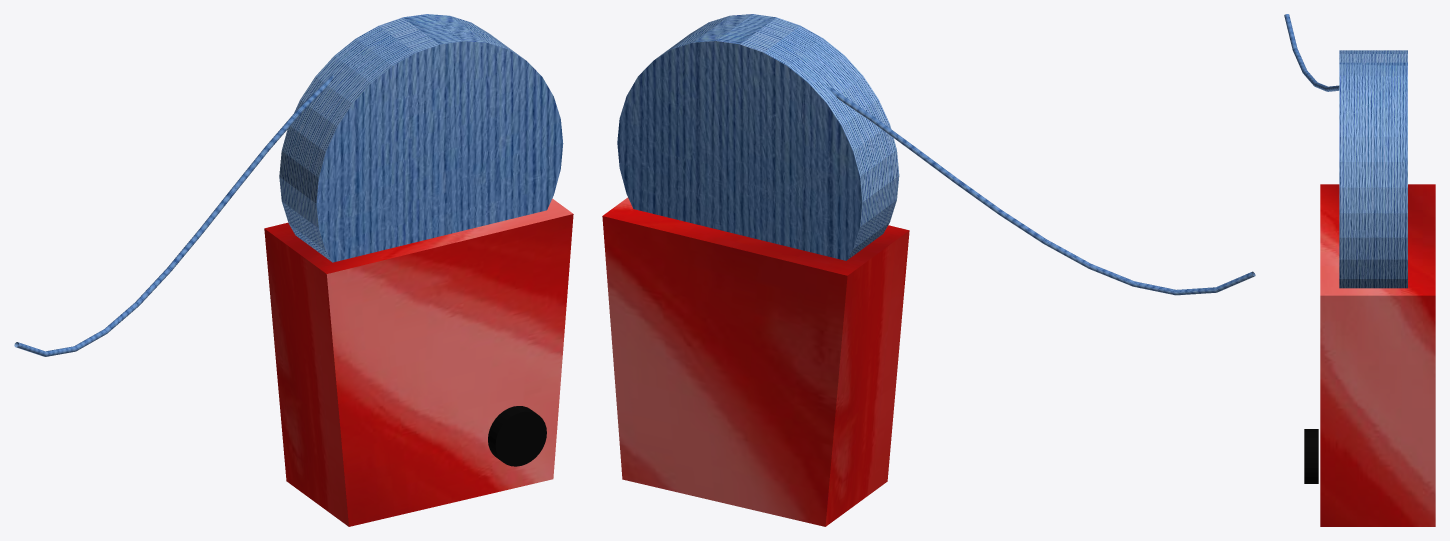
The model's file is HoloDental.fbx.
The picture shows the model from 3 angles, left to right: view 1: azimuth 30°, elevation 25°; view 2: azimuth 150°, elevation 25°; view 3: azimuth 270°, elevation 25°; orthographic projection. The views are drawn at different scales.
Visible parts, largest first — view 1: Cube, Cylinder, Cylinder.001, BezierCurve; view 2: Cube, Cylinder, BezierCurve; view 3: Cube, Cylinder, Cylinder.001, BezierCurve.
Part boxes in pixels (x1,y1,x2,y2): Cube: [264, 198, 573, 526]; Cylinder: [279, 14, 563, 262]; Cylinder.001: [488, 406, 546, 466]; BezierCurve: [14, 75, 333, 356]; Cube: [602, 197, 909, 526]; Cylinder: [617, 14, 899, 260]; BezierCurve: [828, 86, 1255, 295]; Cube: [1320, 184, 1435, 526]; Cylinder: [1339, 50, 1407, 288]; Cylinder.001: [1304, 429, 1318, 483]; BezierCurve: [1284, 14, 1339, 91].
Size of the model in its own units: 467 by 350 by 115.
4 materials, 3 textured.
